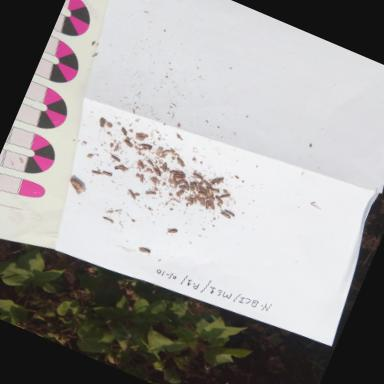pbw: (172, 155, 189, 169), (115, 124, 131, 138), (216, 208, 232, 221), (136, 244, 153, 256), (123, 188, 138, 201), (119, 138, 135, 150), (170, 172, 186, 184), (133, 158, 147, 171), (207, 174, 220, 188), (149, 166, 164, 178), (220, 208, 236, 219), (189, 170, 205, 181), (204, 199, 218, 211), (164, 225, 178, 237), (100, 167, 114, 179), (160, 146, 174, 158), (95, 116, 107, 130), (88, 166, 103, 177), (204, 186, 220, 196), (218, 190, 231, 202), (108, 153, 122, 164), (211, 194, 225, 205), (171, 170, 186, 180), (214, 176, 226, 188), (189, 180, 201, 192), (170, 176, 182, 188), (158, 160, 170, 172), (195, 185, 208, 196), (201, 180, 214, 191), (139, 141, 153, 151), (174, 177, 186, 188), (112, 162, 124, 173), (177, 184, 190, 194), (143, 158, 156, 168), (179, 180, 192, 190), (196, 190, 210, 199), (174, 187, 184, 199), (154, 145, 164, 157), (204, 186, 214, 198), (143, 188, 155, 198), (168, 168, 181, 177), (186, 182, 197, 192), (201, 200, 212, 210), (112, 142, 121, 154), (198, 197, 208, 207), (136, 146, 148, 154), (136, 174, 145, 184), (197, 178, 206, 188)
